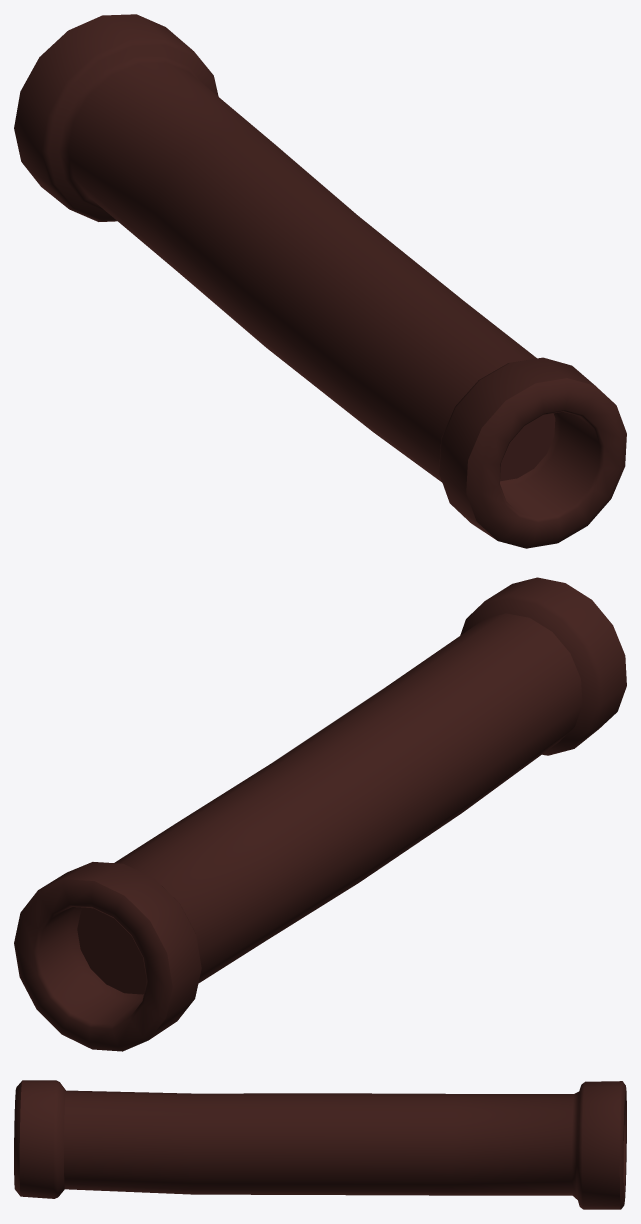
File: sc_FeiTu_mesh_zhalan16.FBX
3 views of the same model, one above another, from view 1: azimuth 30°, elevation 25°; view 2: azimuth 150°, elevation 25°; view 3: azimuth 270°, elevation 25° (orthographic). The views are drawn at different scales.
Visible parts, largest first — view 1: mesh_zhalan16; view 2: mesh_zhalan16; view 3: mesh_zhalan16.
Boxes of the visible parts, x1,y1,x2,y2 form: mesh_zhalan16: (14,14,626,548); mesh_zhalan16: (14,577,626,1051); mesh_zhalan16: (14,1080,626,1209).
Size of the model in its own units: 44.11 by 39.47 by 188.
